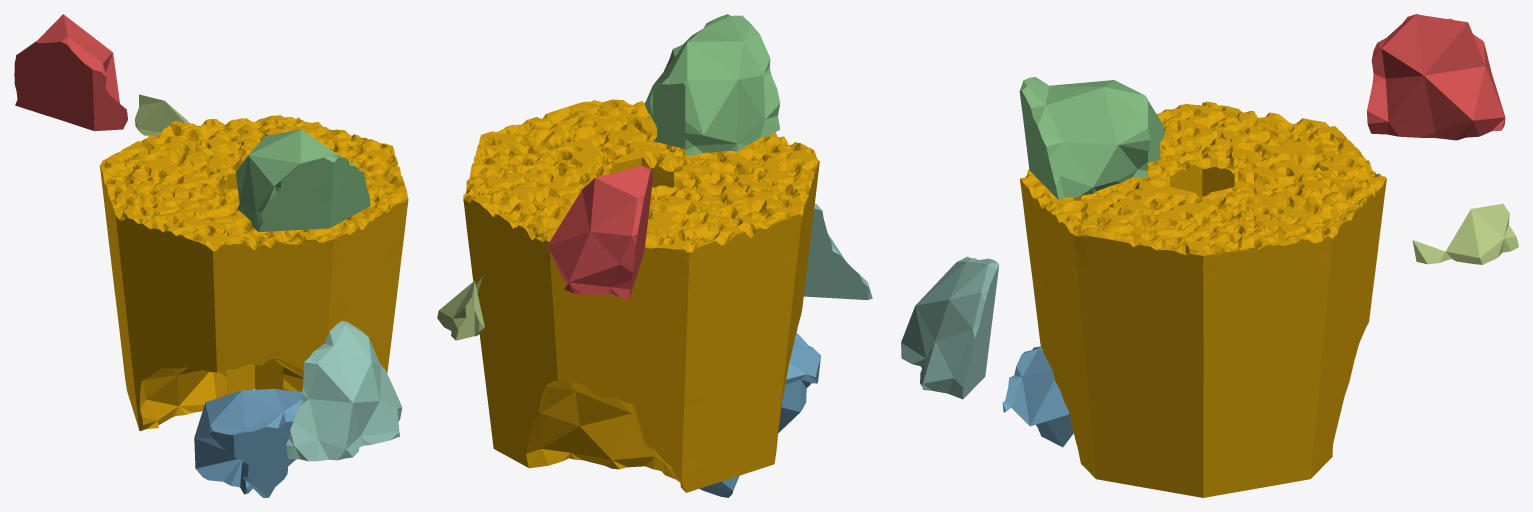
Rendered from fractured_8_6pcs_transformed.glb.
3 views of the same model, side by side, from view 1: azimuth 30°, elevation 25°; view 2: azimuth 150°, elevation 25°; view 3: azimuth 270°, elevation 25° (orthographic). The views are drawn at different scales.
Parts seen in each view (by area): view 1: piece_0.obj, piece_4.obj, piece_3.obj, piece_1.obj, piece_2.obj, piece_5.obj; view 2: piece_0.obj, piece_3.obj, piece_1.obj, piece_4.obj, piece_2.obj, piece_5.obj; view 3: piece_0.obj, piece_1.obj, piece_3.obj, piece_4.obj, piece_2.obj, piece_5.obj.
Part boxes in pixels (left/top/right/bottom): piece_0.obj: left=99, top=115, right=408, bottom=430; piece_4.obj: left=286, top=321, right=402, bottom=461; piece_3.obj: left=235, top=129, right=370, bottom=232; piece_1.obj: left=14, top=14, right=127, bottom=131; piece_2.obj: left=194, top=389, right=301, bottom=497; piece_5.obj: left=135, top=94, right=188, bottom=136; piece_0.obj: left=463, top=99, right=819, bottom=492; piece_3.obj: left=645, top=14, right=780, bottom=155; piece_1.obj: left=547, top=166, right=653, bottom=299; piece_4.obj: left=803, top=203, right=872, bottom=299; piece_2.obj: left=699, top=333, right=820, bottom=497; piece_5.obj: left=437, top=275, right=484, bottom=340; piece_0.obj: left=1020, top=101, right=1386, bottom=497; piece_1.obj: left=1367, top=14, right=1505, bottom=140; piece_3.obj: left=1019, top=77, right=1165, bottom=199; piece_4.obj: left=901, top=256, right=999, bottom=399; piece_2.obj: left=1002, top=346, right=1073, bottom=447; piece_5.obj: left=1412, top=204, right=1518, bottom=264.
Size of the model in its own units: 0.999 by 1.28 by 1.68.
